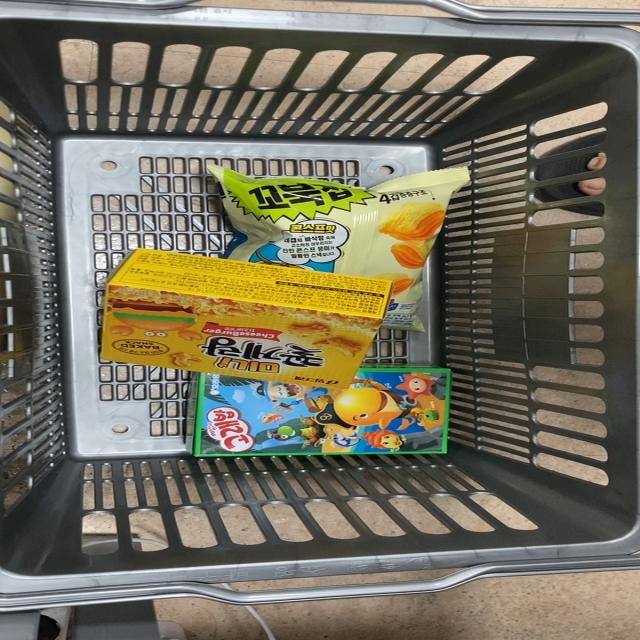ggobukchip: (202, 160, 474, 265)
goraebob: (170, 375, 458, 465)
minicrab: (78, 250, 399, 382)
